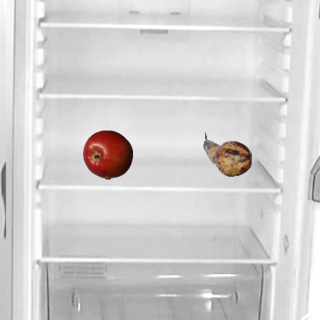Apple Braeburn: (82, 129, 132, 179)
Pear Abate: (202, 129, 252, 179)
